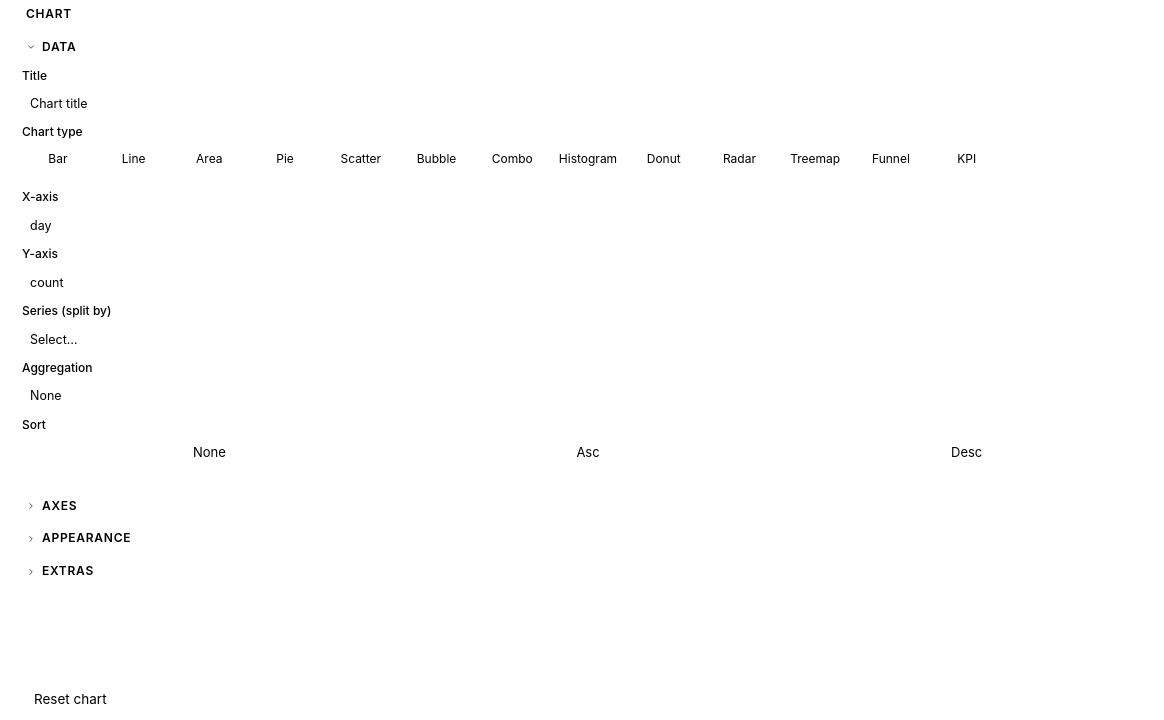
ChartEditorPanel › series colors list the category values, not the measure, when split is active
Click the button with test id "chart-section-appearance".
click(79, 537)  # box x1=12 y1=520 x2=145 y2=553
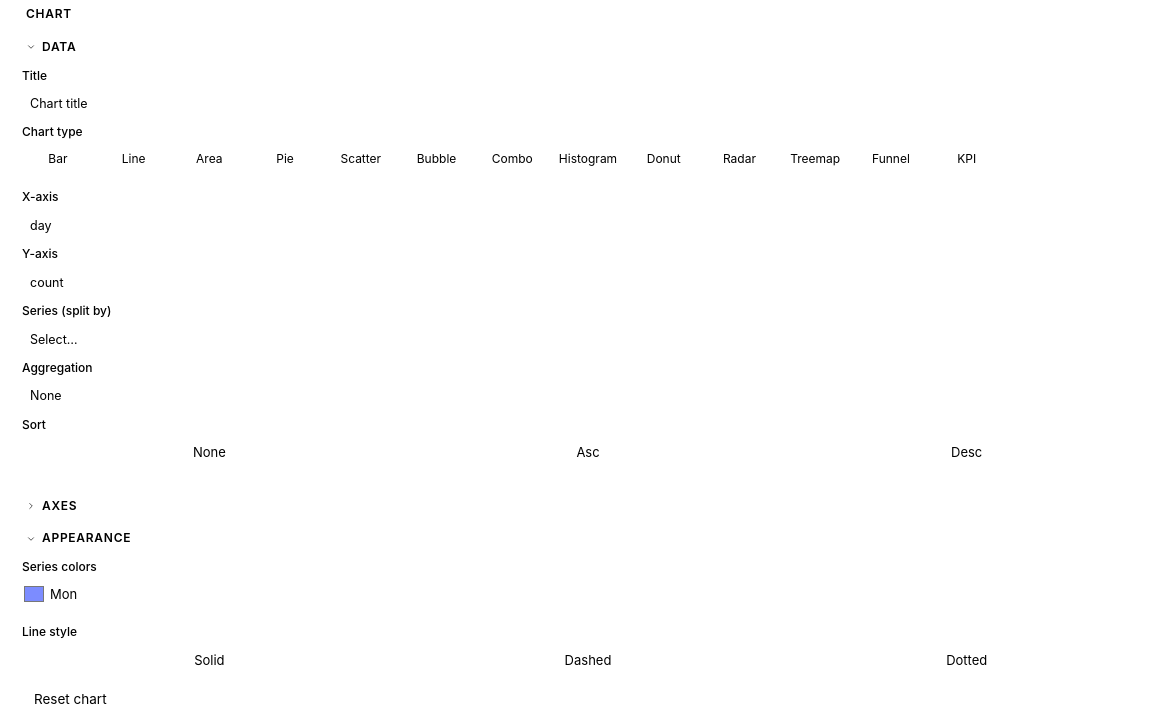
Check: the text "Mon" is shown, box x1=50 y1=585 x2=77 y2=603
